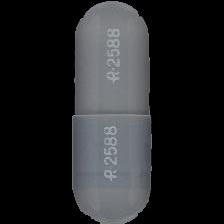0615-7749: (0, 0, 224, 224)
